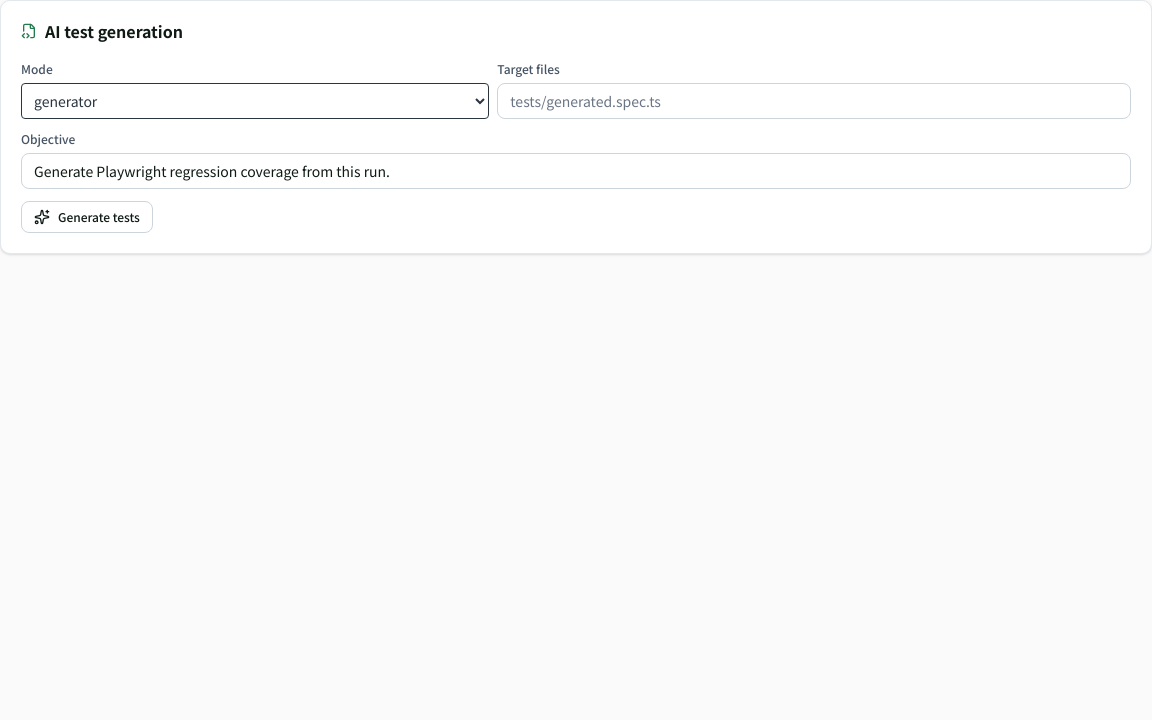
Test case: AiTestGenerationPanel › proposedPatch がないとき diff review を表示しない
Click the button "Generate tests" at (87, 217), box [21,201,153,233]
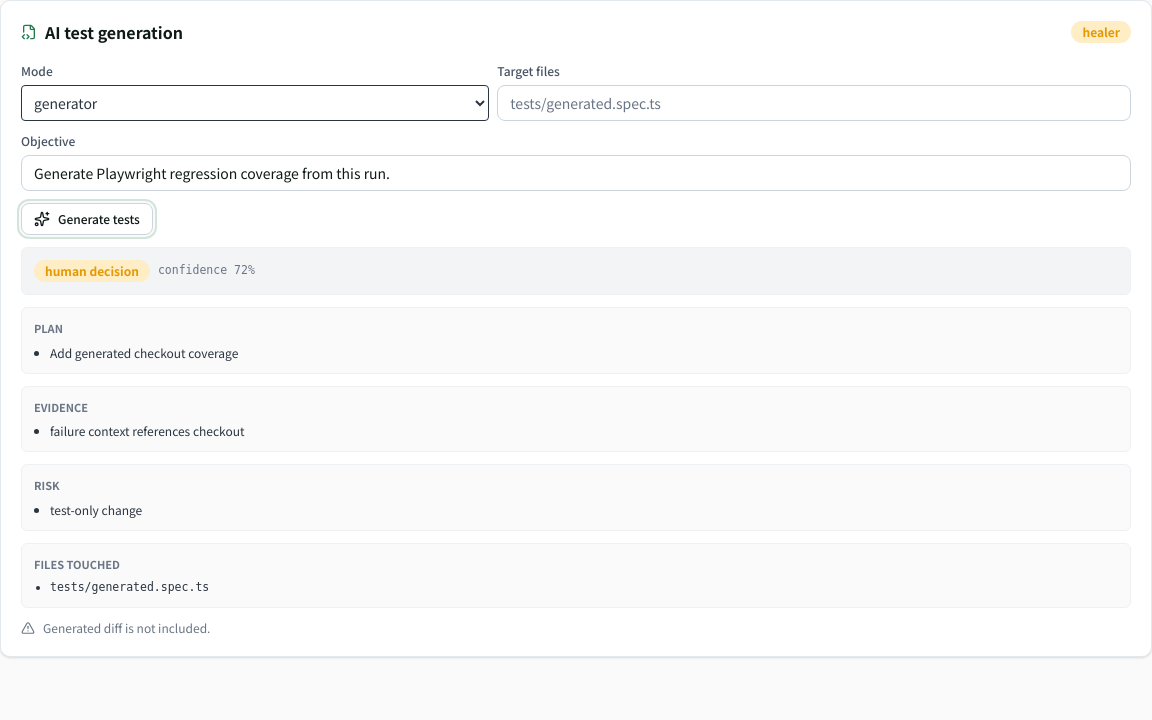
Result: the text "human decision" is shown at [34,260,150,282]
Result: the text "Generated diff is not included." is shown at [21,619,210,636]
